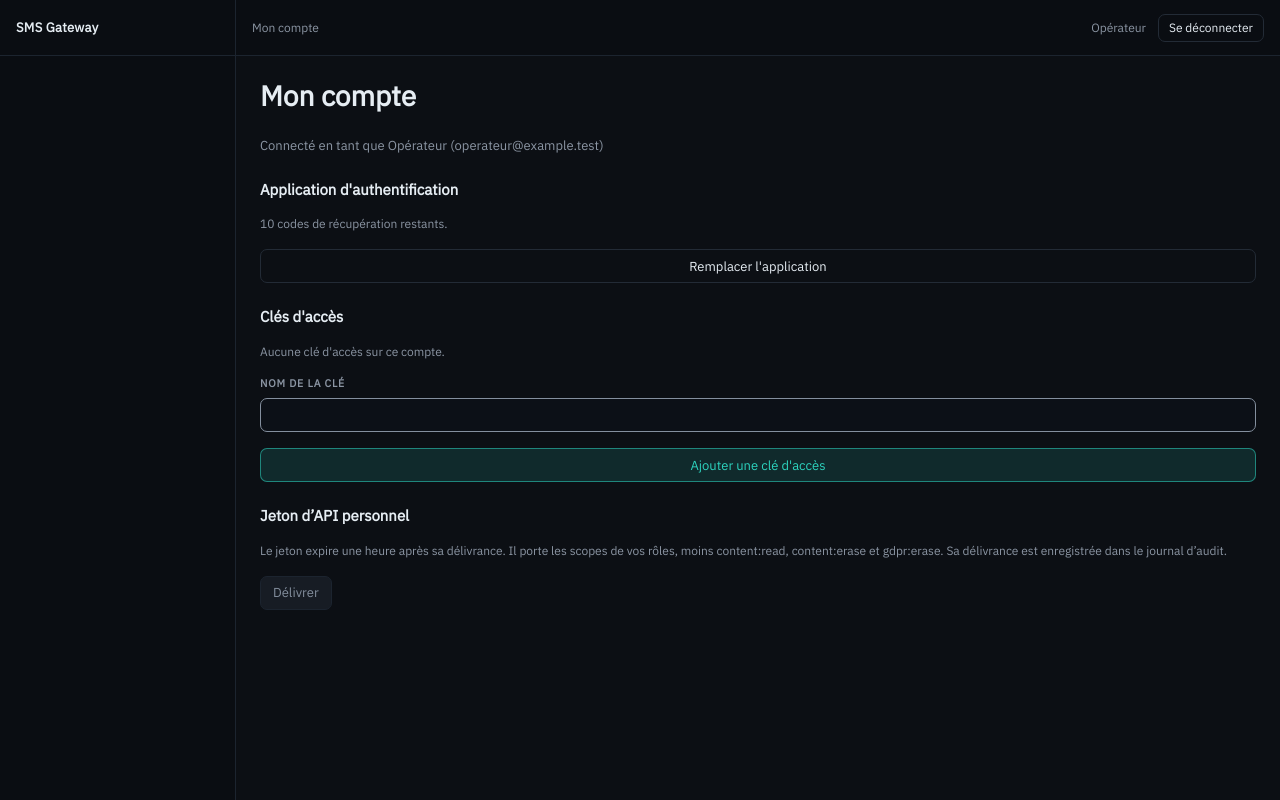
Test: a replacement can be abandoned before its proof
This screenshot has width=1280, height=800.
Click the button "Remplacer l'application": [758, 266] box top-left (260, 249), bottom-right (1256, 283)
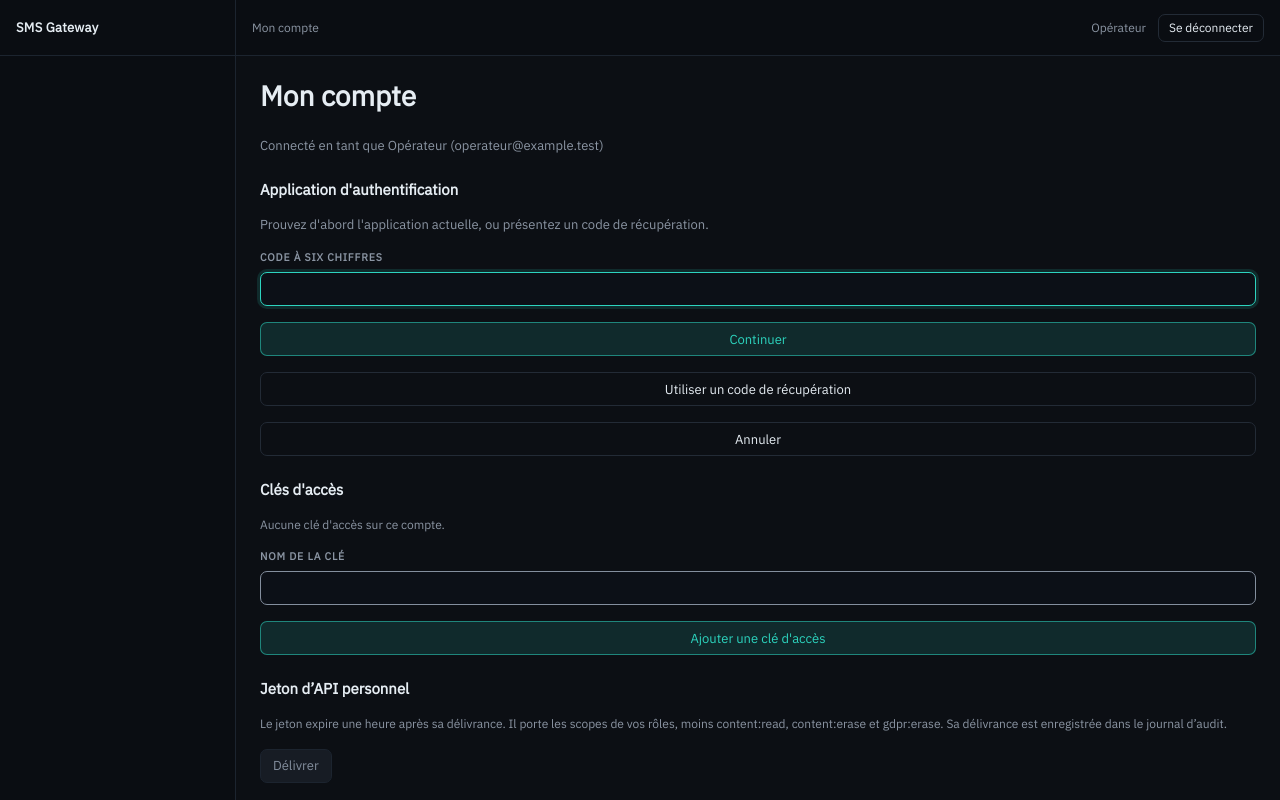
Click the button "Annuler": [758, 439] box top-left (260, 422), bottom-right (1256, 456)
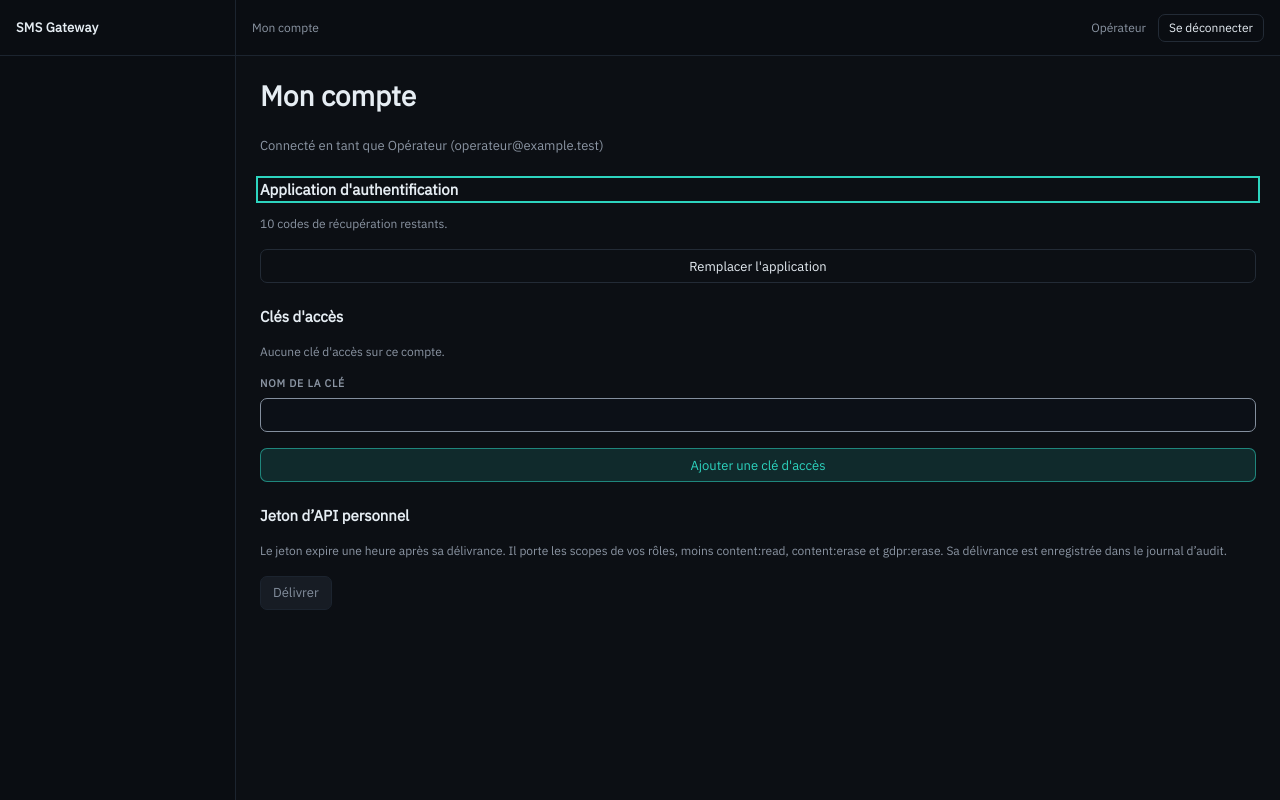
Check: the button "Remplacer l'application" is shown, box top-left (260, 249), bottom-right (1256, 283)
